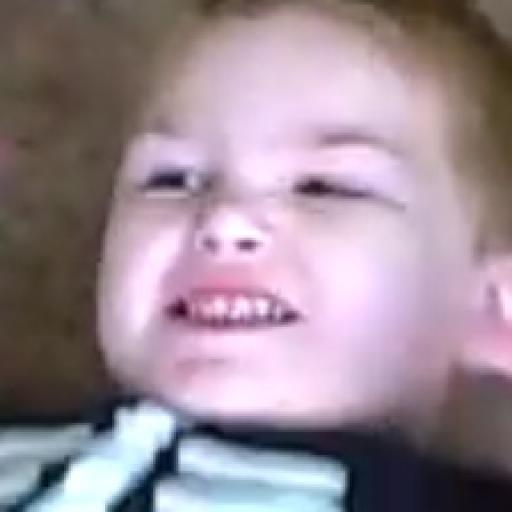Autism: (117, 39, 512, 450)
